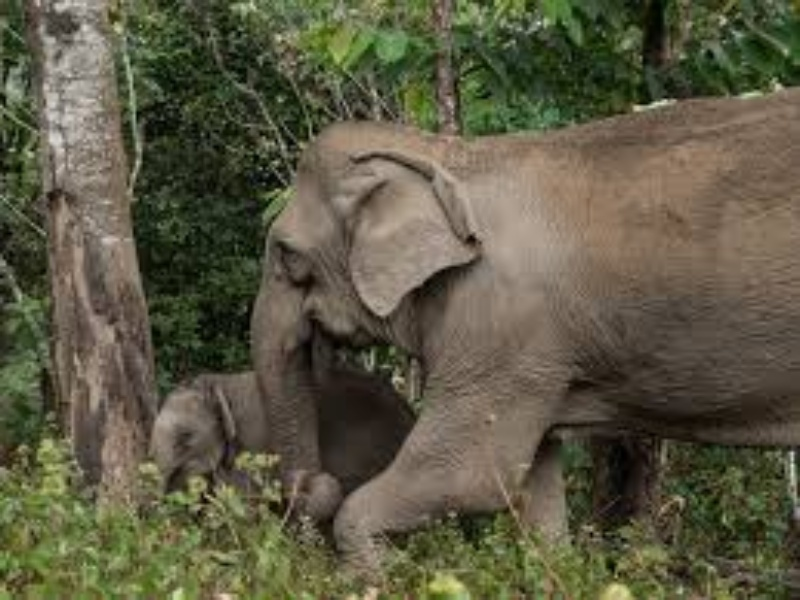elephant: (248, 74, 800, 561)
